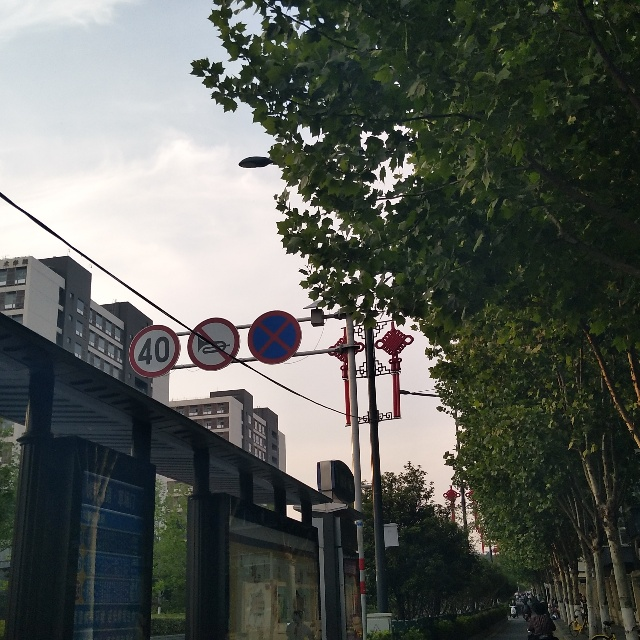nohonk: (188, 318, 240, 371)
stop: (248, 310, 302, 365)
